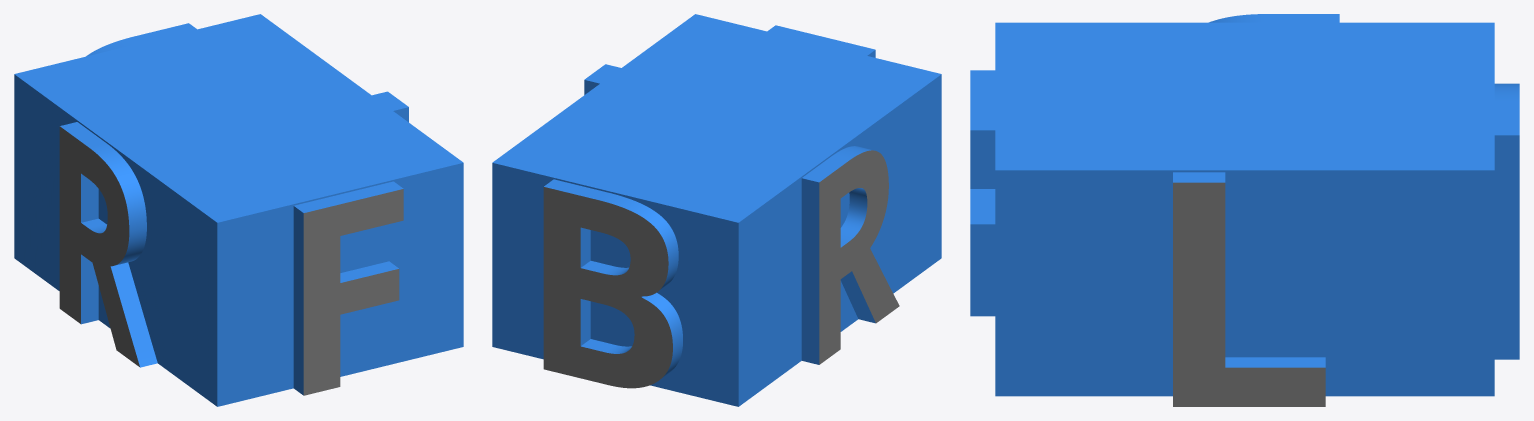
File: Chassis.dae
3 renders of one model, left to right at view 1: azimuth 30°, elevation 25°; view 2: azimuth 150°, elevation 25°; view 3: azimuth 270°, elevation 25°, orthographic. The views are drawn at different scales.
Visible parts, largest first — view 1: ID2; view 2: ID2; view 3: ID2.
Part boxes in pixels (bbox=[...]): ID2: bbox=[14, 14, 463, 406]; ID2: bbox=[492, 14, 941, 406]; ID2: bbox=[970, 14, 1519, 406].
Size of the model in its own units: 0.4 by 0.55 by 0.25.
